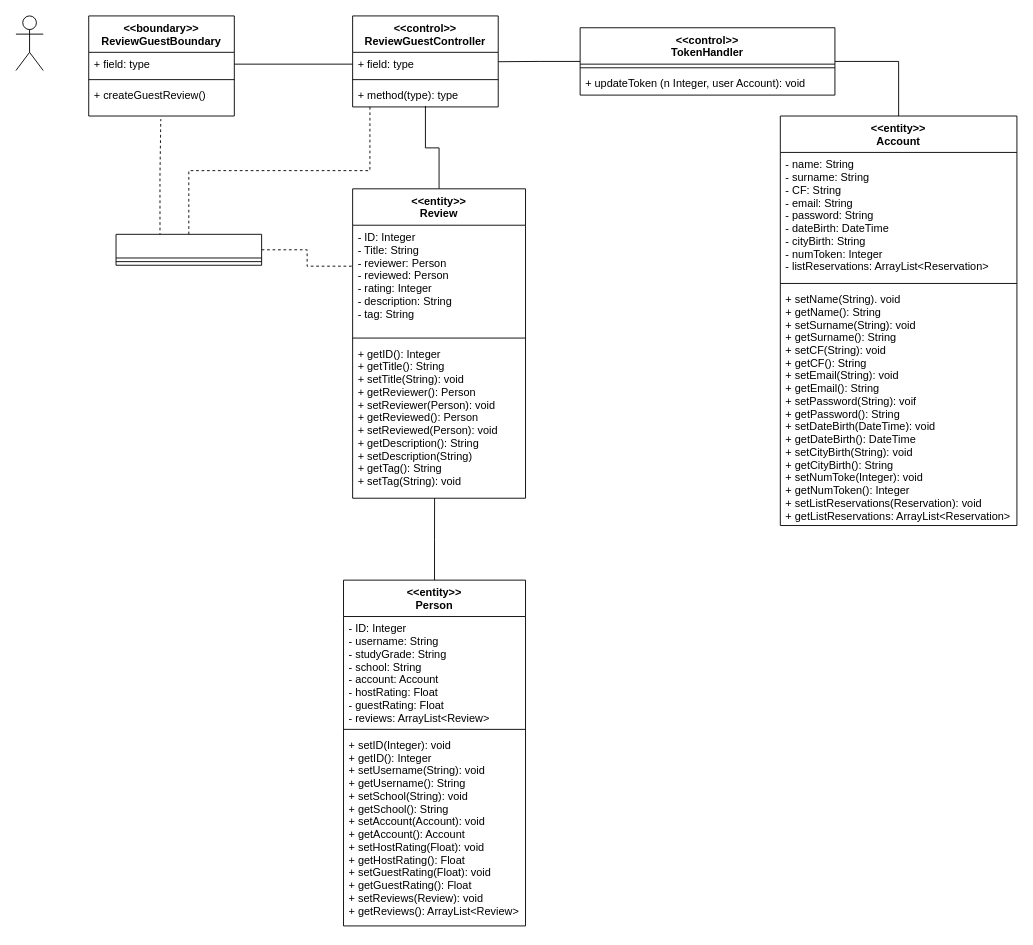
Image size: 1033x945. Some labels were removed from this diagram. Here are the shapes that lost their labels. From the top down, the centre of each, then its label:
At point 29,43: "Host".
At point 188,249: "ReviewBean".
